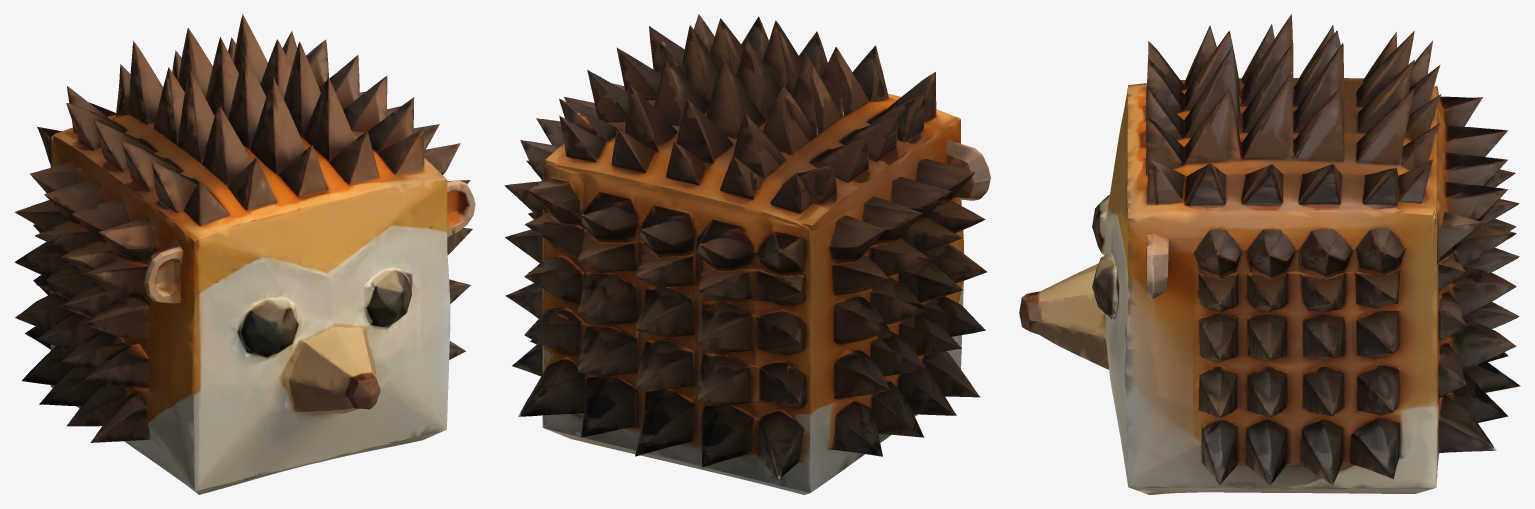
File: hedgehog.fbx
3 renders of one model, left to right at view 1: azimuth 30°, elevation 25°; view 2: azimuth 150°, elevation 25°; view 3: azimuth 270°, elevation 25°, orthographic. The views are drawn at different scales.
Parts seen in each view (by area): view 1: model_LOD0; view 2: model_LOD0; view 3: model_LOD0.
Boxes of the visible parts, x1,y1,x2,y2 form: model_LOD0: [14, 14, 475, 494]; model_LOD0: [504, 14, 990, 494]; model_LOD0: [1019, 14, 1520, 494].
Size of what is drawn, in the model's own units: 184 by 173 by 190.
